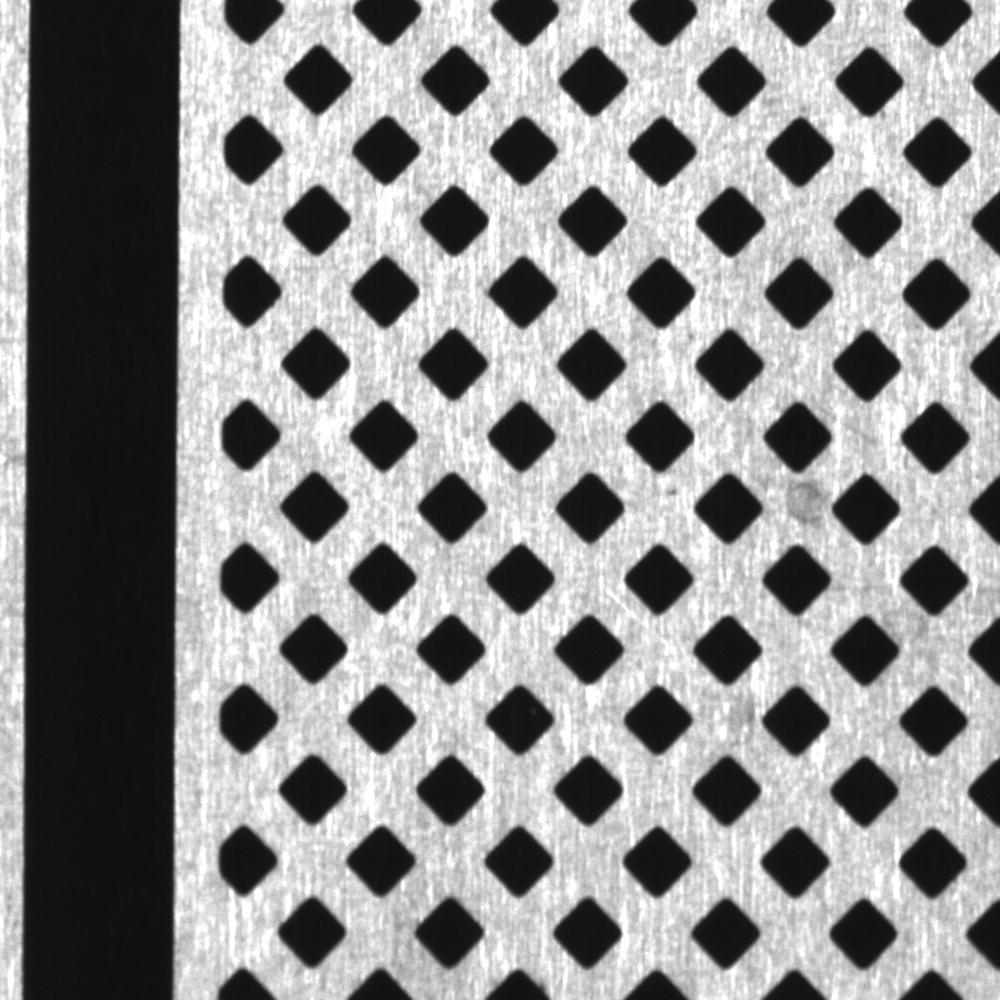Discolor: (687, 670, 772, 754), (767, 469, 835, 544)
